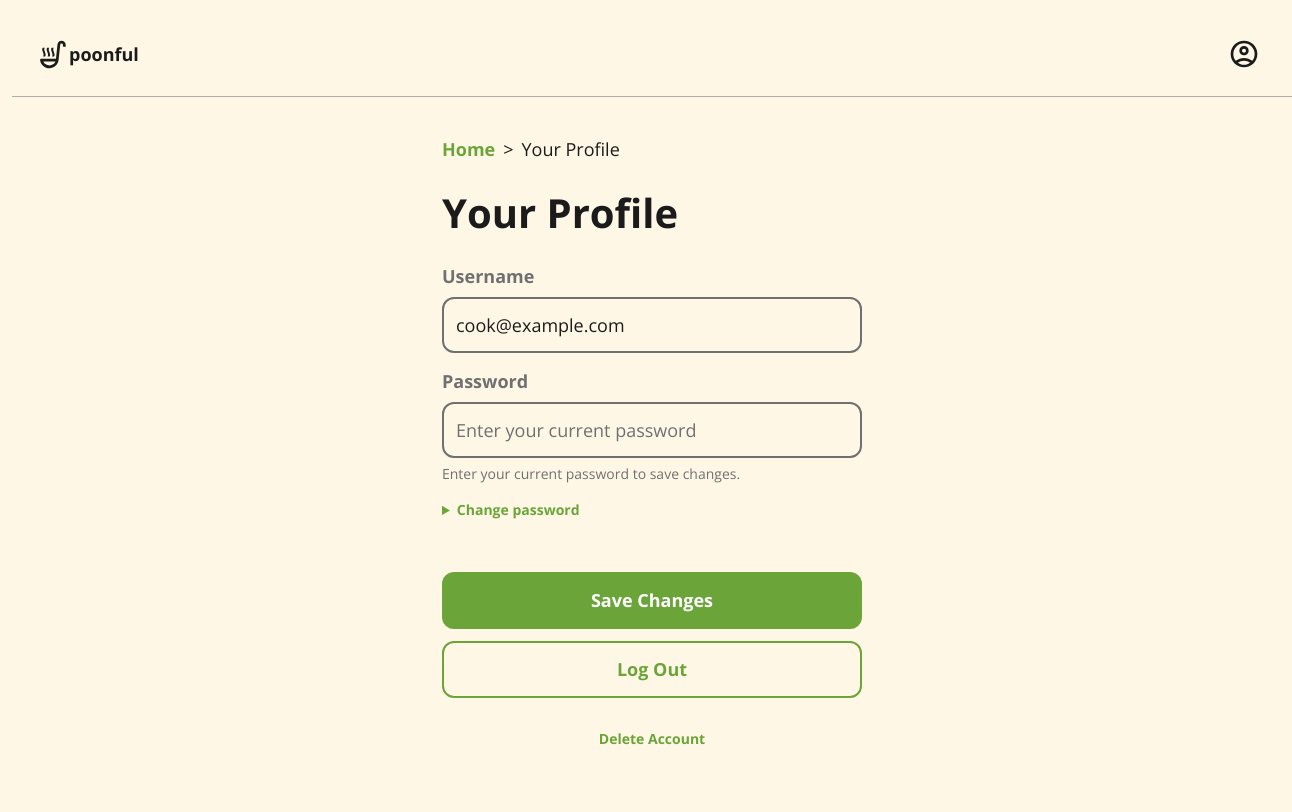
Test: keeps the user signed in and their edits intact when a save fails
Expected: the field labelled "Username" is shown, [442,297,862,353]
In the password field labelled "Password": point(652, 430) [442,402,862,458], type "correct-password"
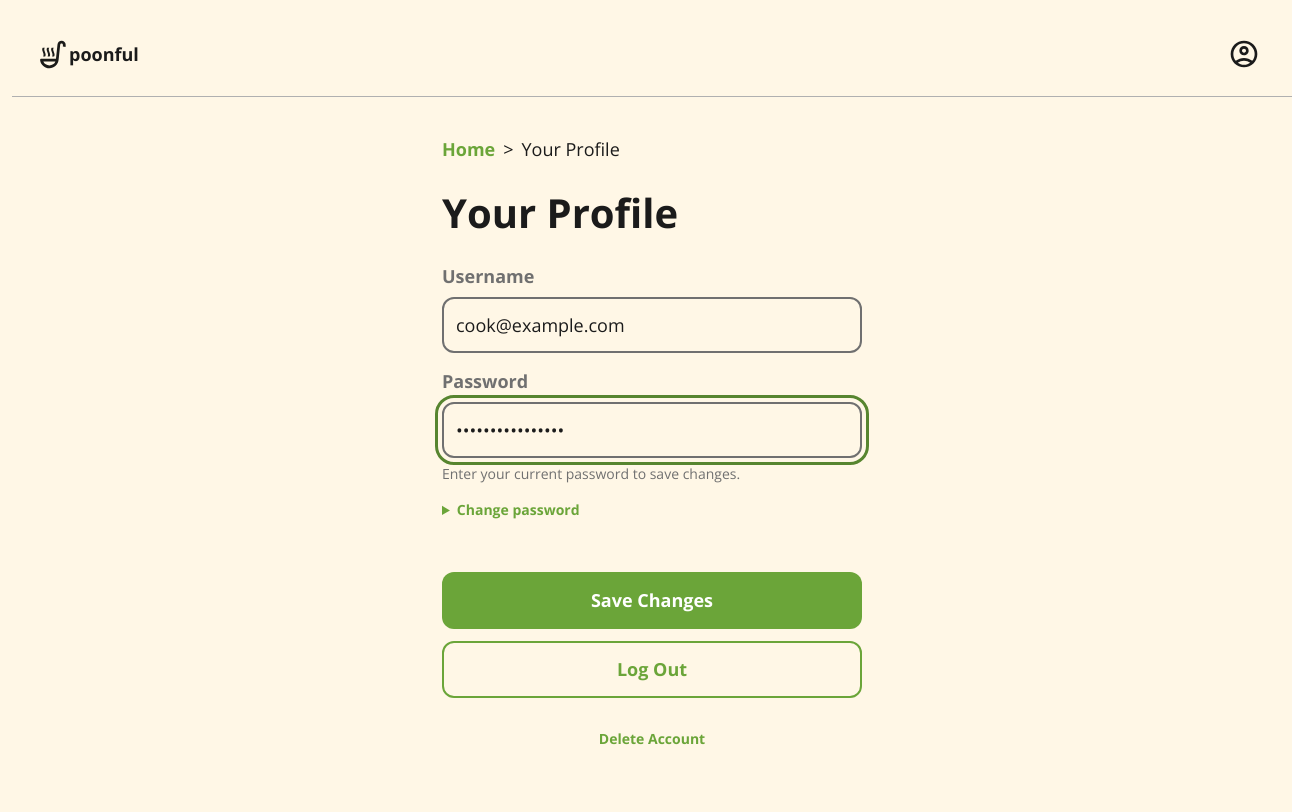
Click the button "Save Changes": point(652, 601) [442,572,862,629]
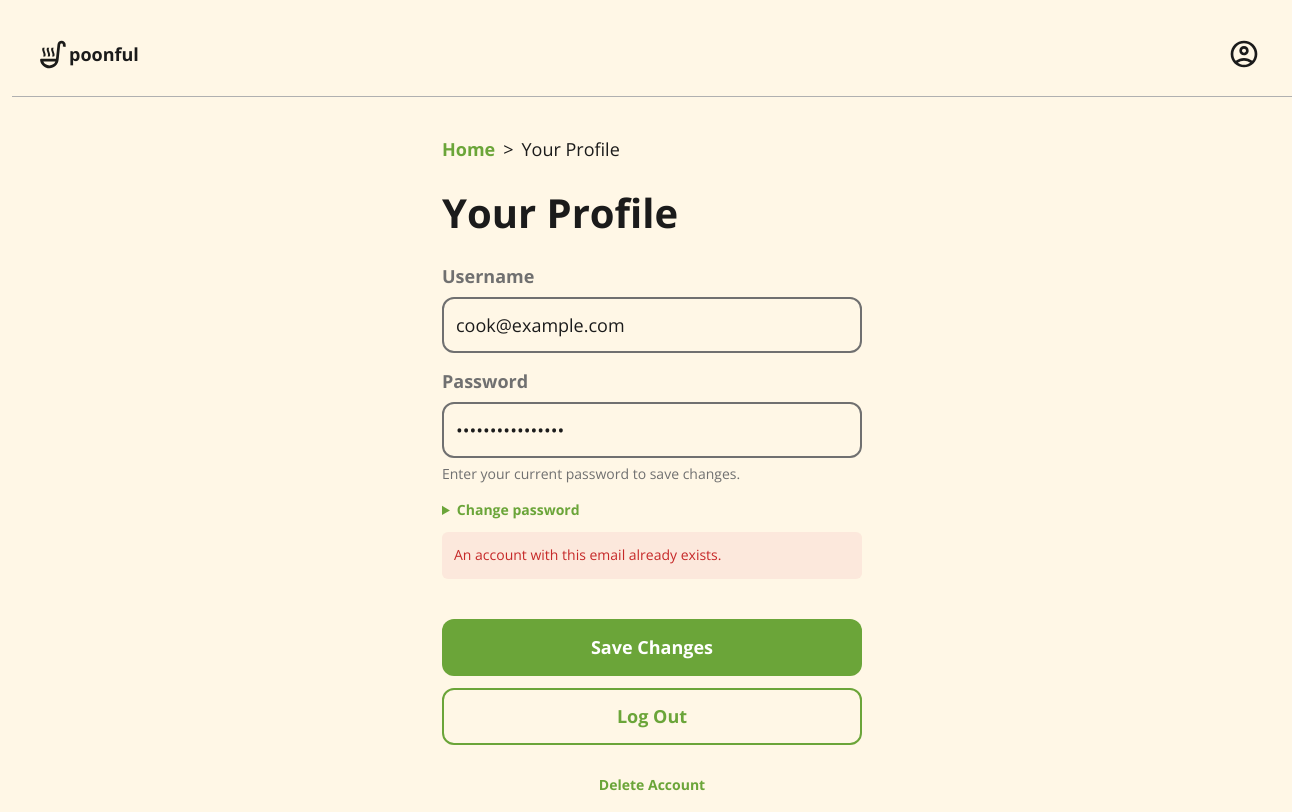
Result: the message shows "already exists" at [454,545,721,564]
